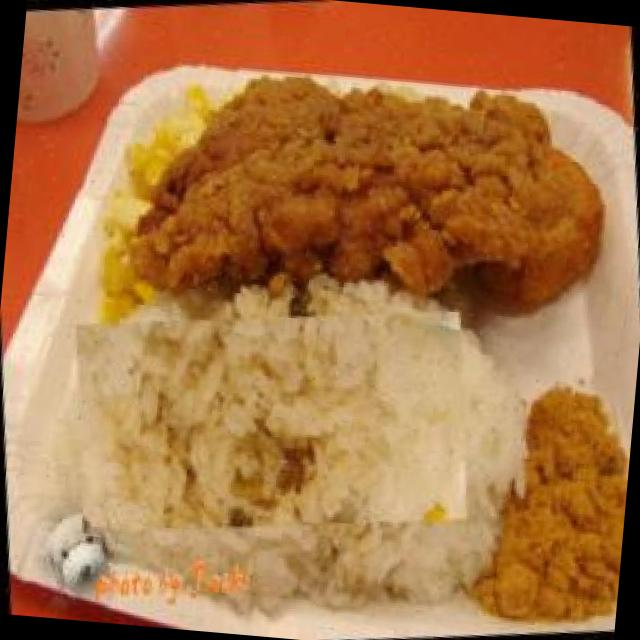fried_chicken: (114, 26, 580, 337)
rice: (56, 276, 484, 566)
